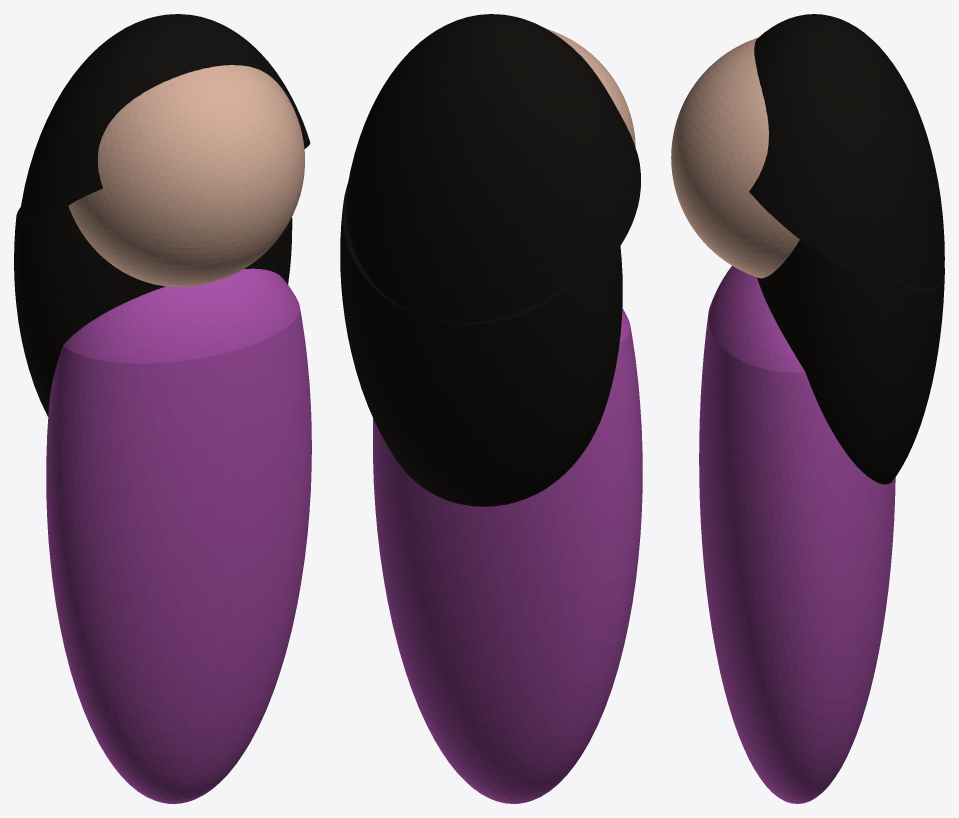
Rendered from Person5.fbx.
3 renders of one model, left to right at view 1: azimuth 30°, elevation 25°; view 2: azimuth 150°, elevation 25°; view 3: azimuth 270°, elevation 25°, orthographic.
Visible parts, largest first — view 1: node_id8 (×3); view 2: node_id8 (×3); view 3: node_id8 (×3).
Part boxes in pixels (<box>): node_id8 (×3): <box>14,14,311,803</box>; node_id8 (×3): <box>340,14,642,803</box>; node_id8 (×3): <box>671,14,944,803</box>.
Bounding box in the file's own units: 0.1855 × 0.512 × 0.1639.
